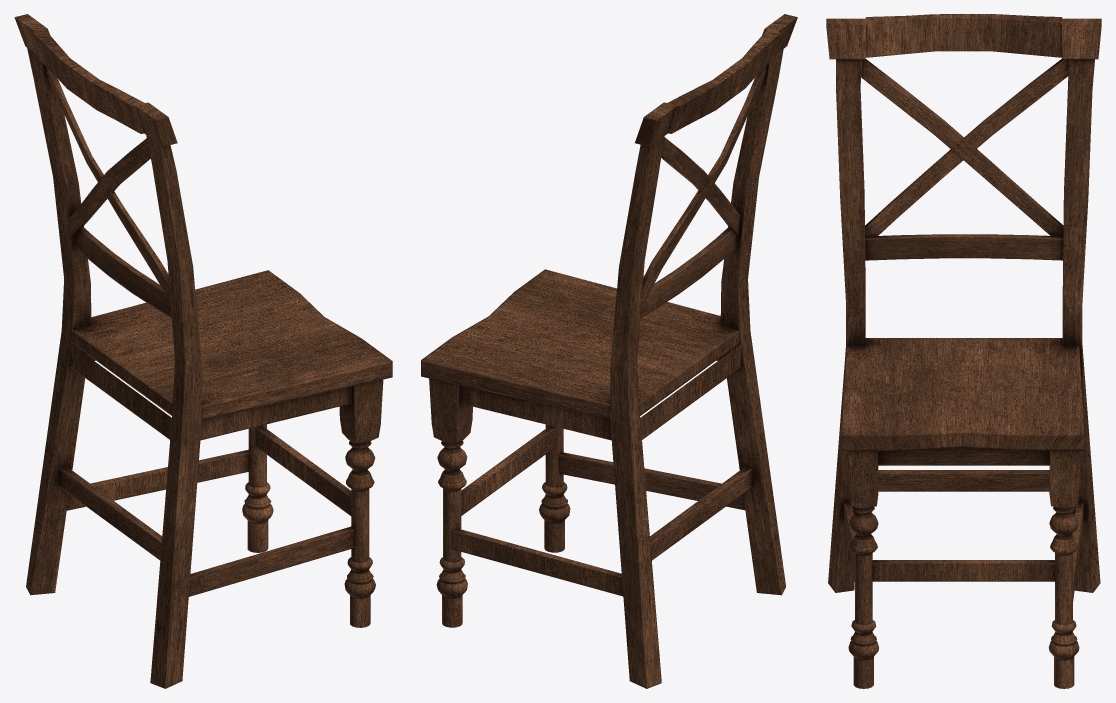
3 views of the same model, side by side, from view 1: azimuth 30°, elevation 25°; view 2: azimuth 150°, elevation 25°; view 3: azimuth 270°, elevation 25° (orthographic). The views are drawn at different scales.
Parts seen in each view (by area): view 1: polySurface7; view 2: polySurface7; view 3: polySurface7.
Part boxes in pixels (x1,y1,x2,y2): polySurface7: [14, 14, 392, 688]; polySurface7: [421, 14, 797, 688]; polySurface7: [826, 14, 1101, 688].
Bounding box in the file's own units: 45.8 × 98.29 × 43.91.
1 material, 1 textured.
